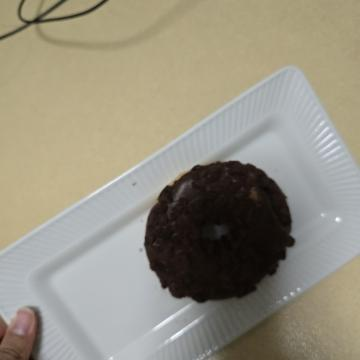doughnut: (150, 55, 317, 232)
